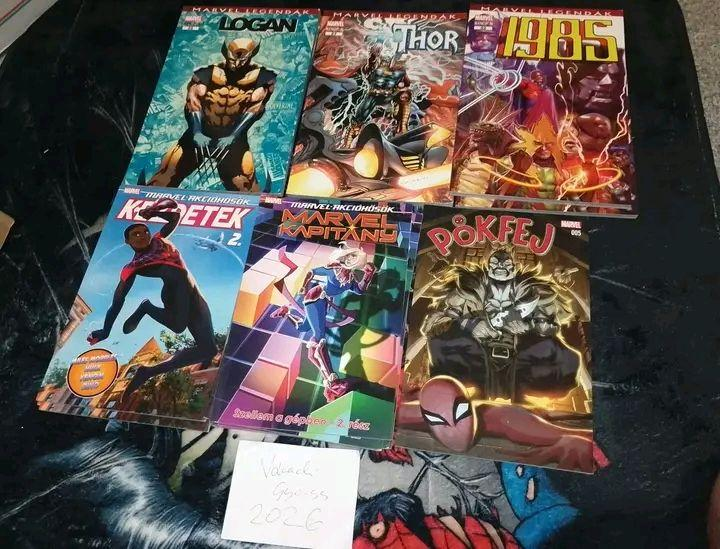comic: (34, 164, 259, 440), (393, 202, 619, 471), (212, 181, 425, 450), (125, 0, 320, 210), (452, 4, 642, 216), (287, 1, 466, 206)
